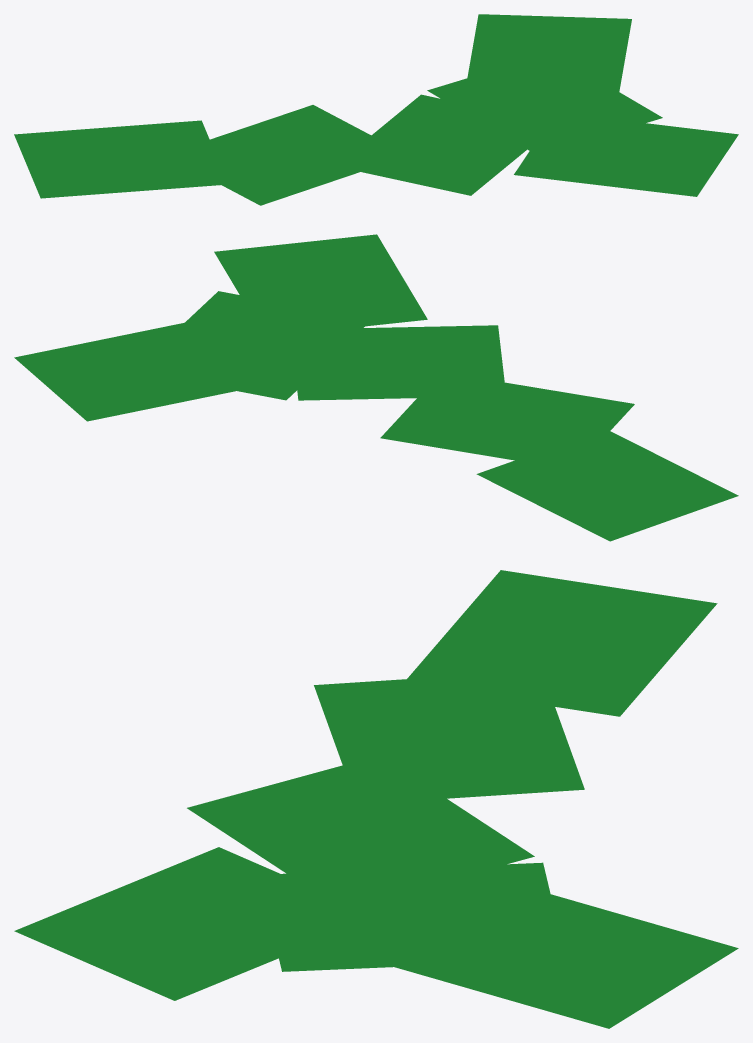
Rendered from footprints 1.FBX.
3 renders of one model, top to bottom at view 1: azimuth 30°, elevation 25°; view 2: azimuth 150°, elevation 25°; view 3: azimuth 270°, elevation 25°, orthographic. The views are drawn at different scales.
Parts seen in each view (by area): view 1: footprints 1; view 2: footprints 1; view 3: footprints 1.
Part boxes in pixels (bbox=[...]): footprints 1: bbox=[14, 14, 738, 205]; footprints 1: bbox=[14, 234, 738, 541]; footprints 1: bbox=[14, 570, 738, 1028].
Size of the model in its own units: 26.04 by 1.05e-15 by 17.38.
